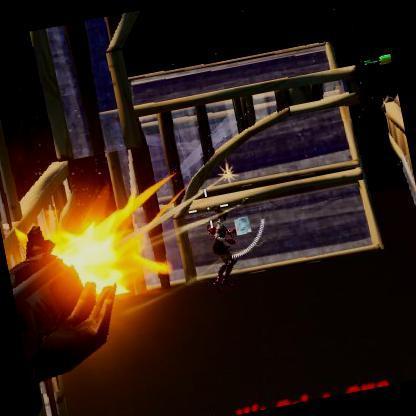person: (204, 221, 244, 292), (208, 230, 236, 272)
